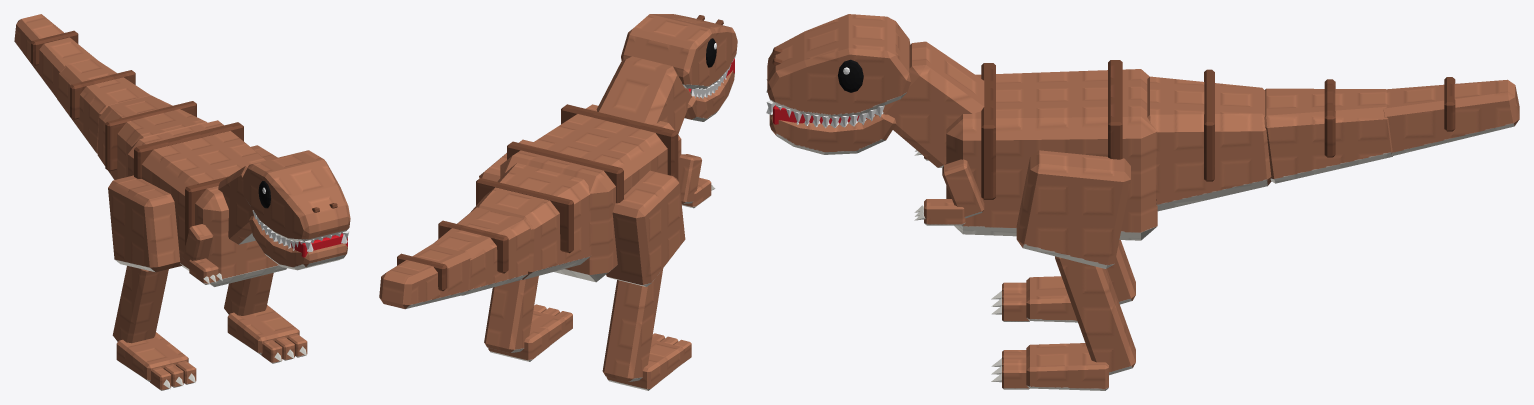
File: 21_Eoraptor.glb
3 renders of one model, left to right at view 1: azimuth 30°, elevation 25°; view 2: azimuth 150°, elevation 25°; view 3: azimuth 270°, elevation 25°, orthographic. The views are drawn at different scales.
Visible parts, largest first — view 1: 21_Eoraptor; view 2: 21_Eoraptor; view 3: 21_Eoraptor.
Part boxes in pixels (box(x1,y1,x2,y2)): 21_Eoraptor: box(14, 14, 350, 390); 21_Eoraptor: box(379, 14, 737, 390); 21_Eoraptor: box(766, 14, 1519, 390).
Bounding box in the file's own units: 0.9739 × 1.51 × 3.28.
1 material, 1 textured.
